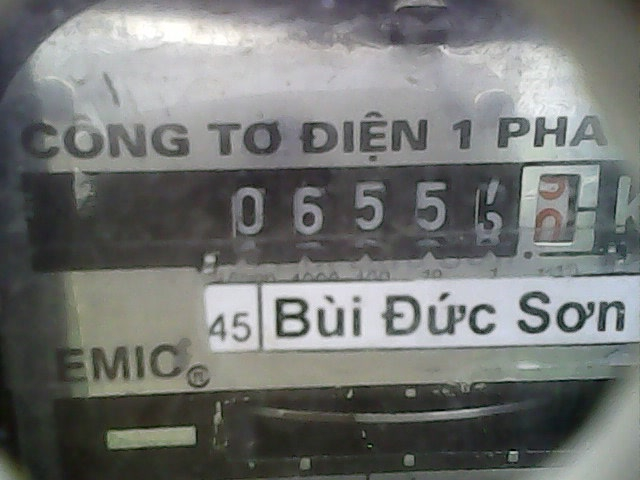phy_plate: (197, 160, 616, 268)
